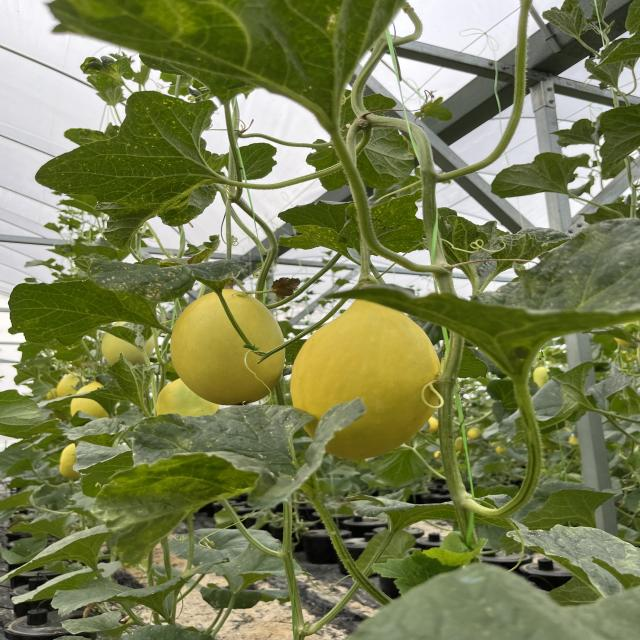CMV: (448, 211, 574, 277), (96, 356, 167, 407)
bacterial wilt: (266, 276, 303, 298)
downy mildew: (37, 90, 231, 250), (92, 450, 265, 572), (130, 403, 331, 469), (501, 521, 640, 597), (278, 194, 429, 263), (83, 250, 247, 296)
healthy: (8, 280, 158, 356), (586, 33, 640, 78)
powdery mildew: (356, 492, 462, 529)
